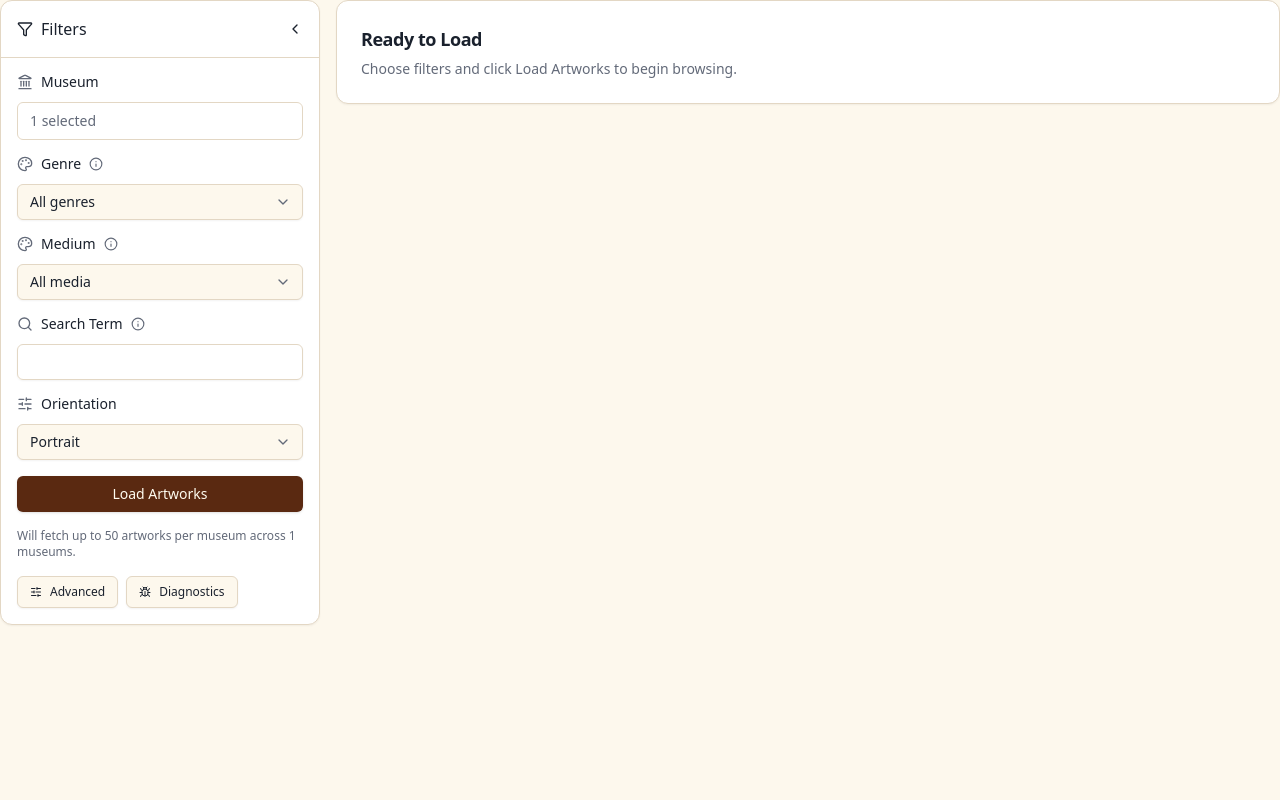
Test: AppPage › prevents deselecting the last museum source
The image size is (1280, 800).
Click the heading "1 selected". click: coordinates (63, 120)
box: x1=30 y1=111 x2=96 y2=130
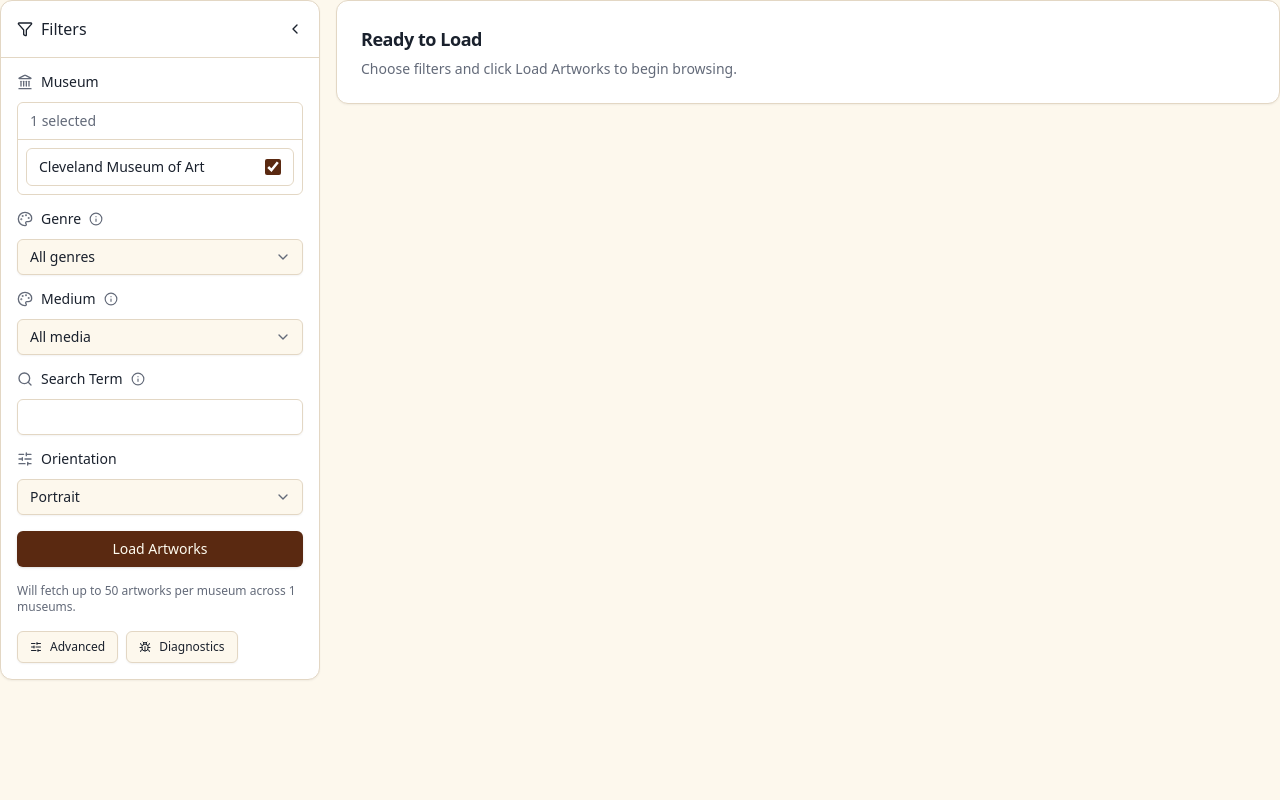
Expected: the checkbox labelled "Cleveland Museum of Art" is checked
Click the checkbox labelled "Cleveland Museum of Art". click: coordinates (273, 167)
box: x1=265 y1=159 x2=281 y2=175
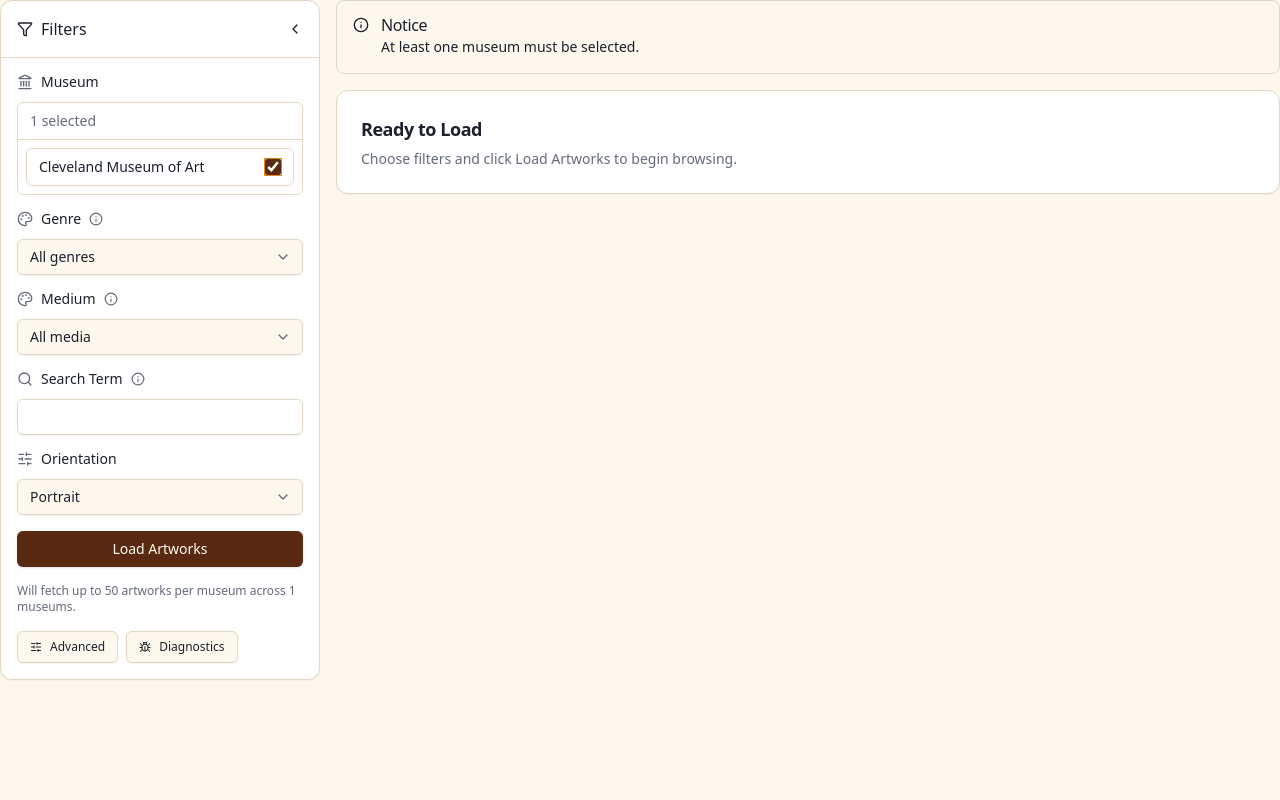
Expected: the checkbox labelled "Cleveland Museum of Art" is checked, x1=265 y1=159 x2=281 y2=175
Expected: the text "At least one museum must be selected." is shown, x1=381 y1=37 x2=639 y2=56
